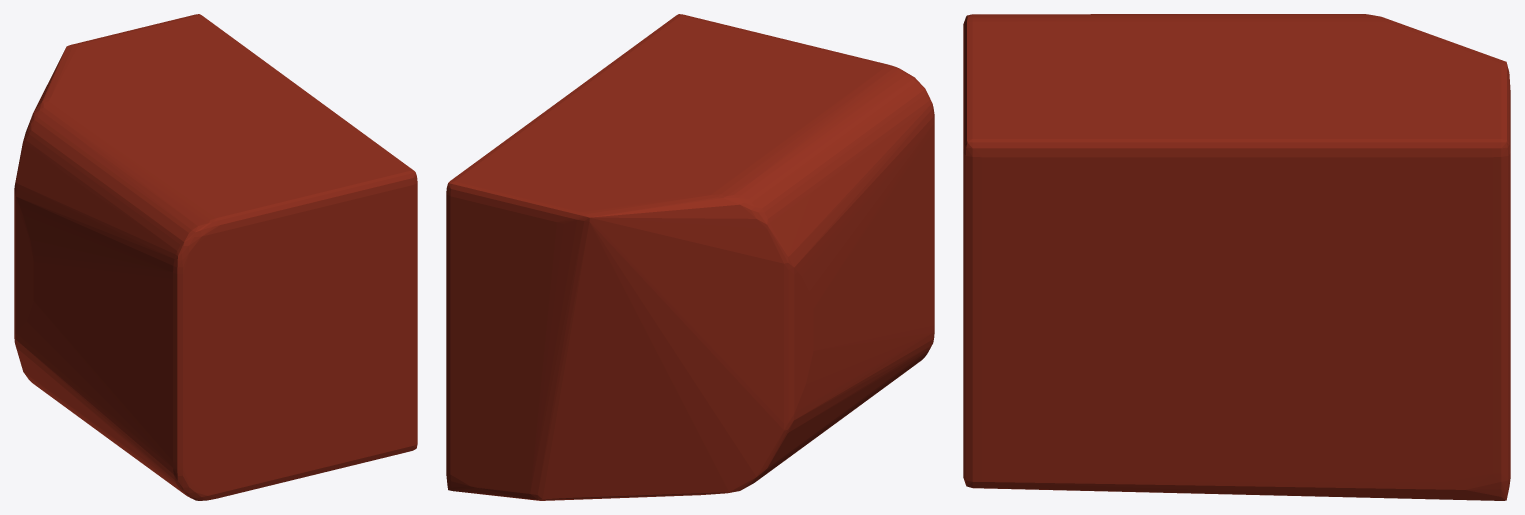
Rendered from right_palm_part_15.obj.
3 renders of one model, left to right at view 1: azimuth 30°, elevation 25°; view 2: azimuth 150°, elevation 25°; view 3: azimuth 270°, elevation 25°, orthographic. The views are drawn at different scales.
Bounding box in the file's own units: 21.65 × 23.22 × 32.02.
